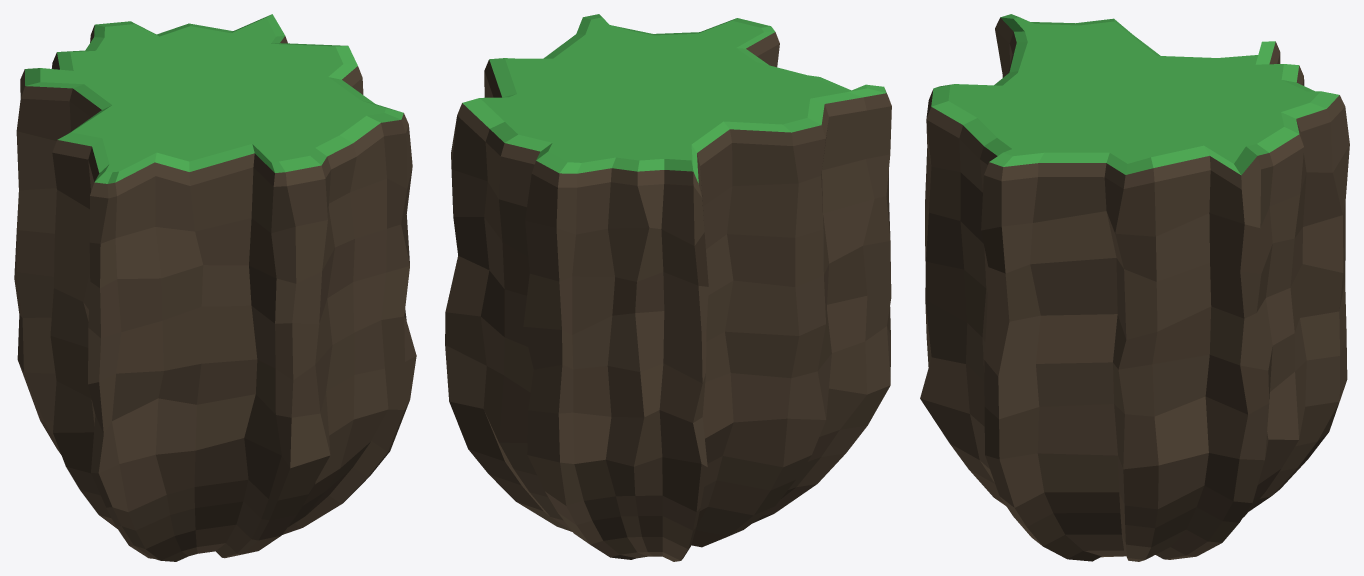
The model's file is Cliff2.fbx.
3 renders of one model, left to right at view 1: azimuth 30°, elevation 25°; view 2: azimuth 150°, elevation 25°; view 3: azimuth 270°, elevation 25°, orthographic.
Visible parts, largest first — view 1: Cliff2; view 2: Cliff2; view 3: Cliff2.
Part boxes in pixels (bbox=[...]): Cliff2: bbox=[14, 14, 416, 561]; Cliff2: bbox=[445, 14, 891, 561]; Cliff2: bbox=[920, 14, 1349, 561].
Bounding box in the file's own units: 1637 × 2106 × 1802.
